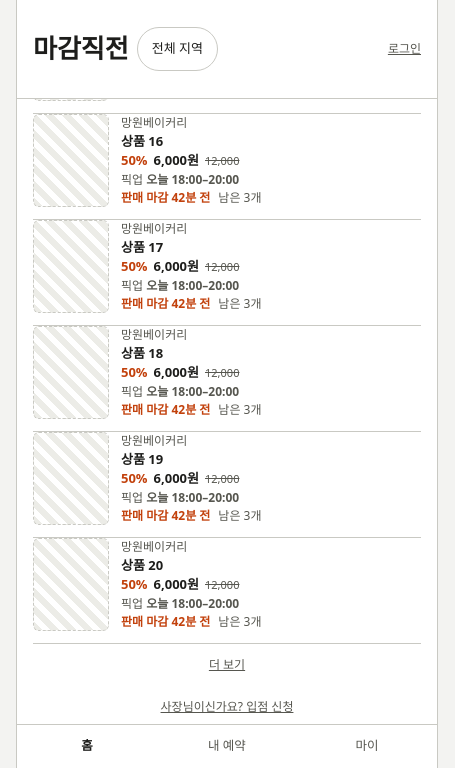
Scenario: HomePage (C1·C1a) › total 25면 「더 보기」로 2페이지를 받아 카드 25개
The width and height of the screenshot is (455, 768).
(page scrolled)
Click the button "더 보기" at {"x": 227, "y": 665}, box 33,656 -> 421,674
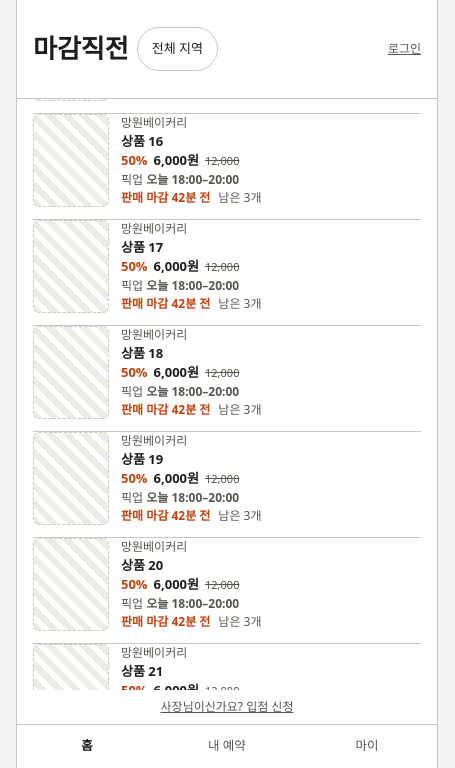
Now the button "더 보기" is gone
